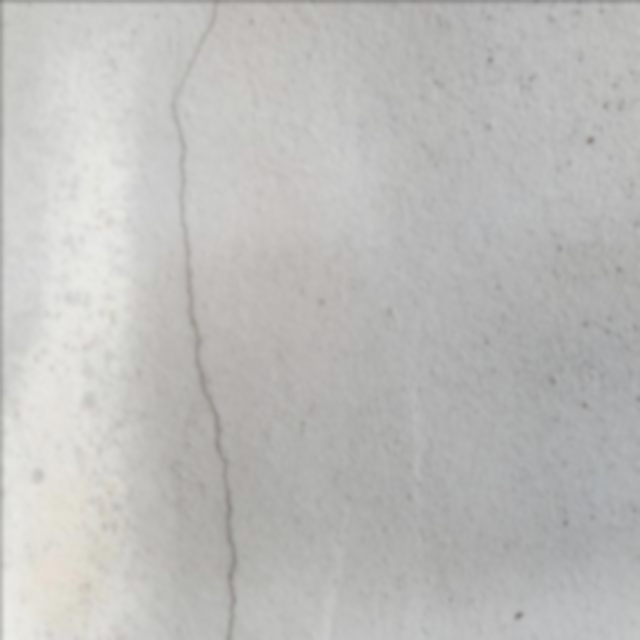SurfaceCrack: (127, 0, 280, 640)
